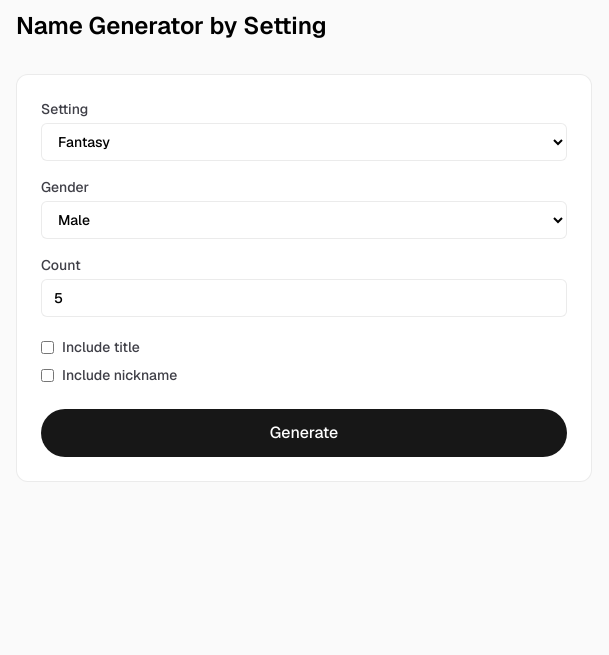
Home (name generator screen) › shows title/nickname checkboxes for Fantasy and Realistic, but not Sci-Fi
Check: the text "Include title" is shown, box [41, 338, 140, 356]
Check: the text "Include nickname" is shown, box [41, 366, 177, 384]
Select "Sci-Fi / Space Opera / Cyberpunk" in the dropdown labelled "Setting" at (304, 142), box [41, 123, 567, 161]
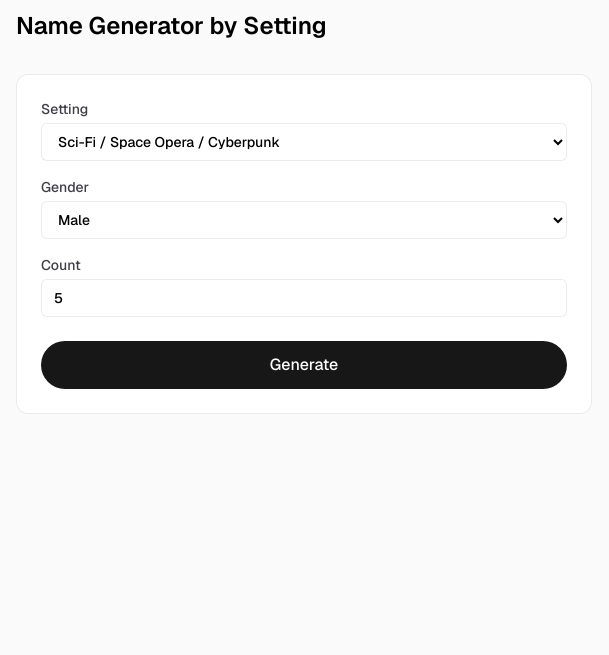
Check: the text "Include title" is gone
Check: the text "Include nickname" is gone
Select "Realistic" in the dropdown labelled "Setting" at (304, 142), box [41, 123, 567, 161]
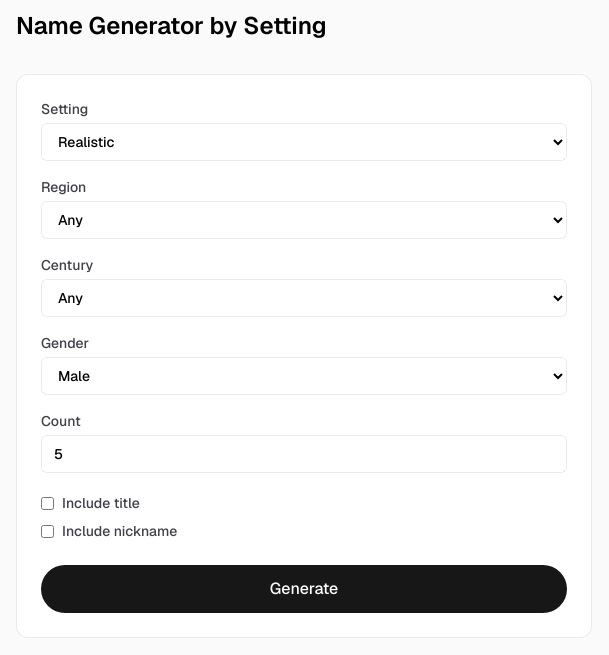
Check: the text "Include title" is shown, box [41, 494, 140, 512]
Check: the text "Include nickname" is shown, box [41, 522, 177, 540]
